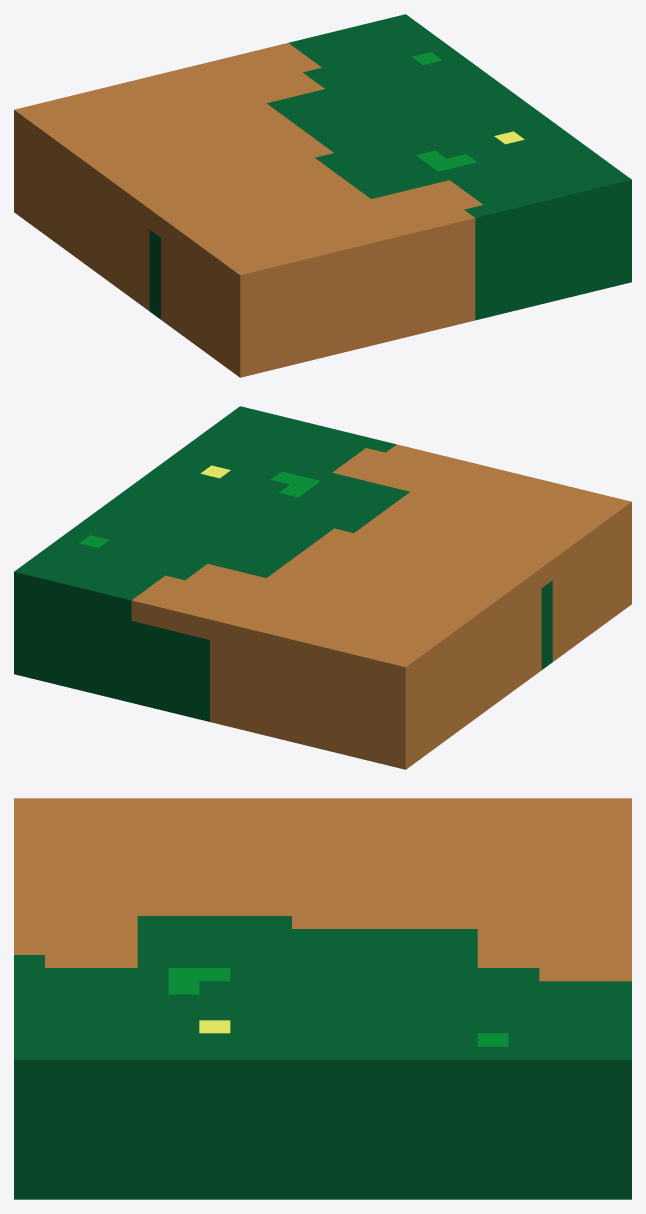
Rendered from Tile9.obj.
3 renders of one model, top to bottom at view 1: azimuth 30°, elevation 25°; view 2: azimuth 150°, elevation 25°; view 3: azimuth 270°, elevation 25°, orthographic. The views are drawn at different scales.
Size of the model in its own units: 2 by 0.5 by 2.
1 material, 1 textured.
